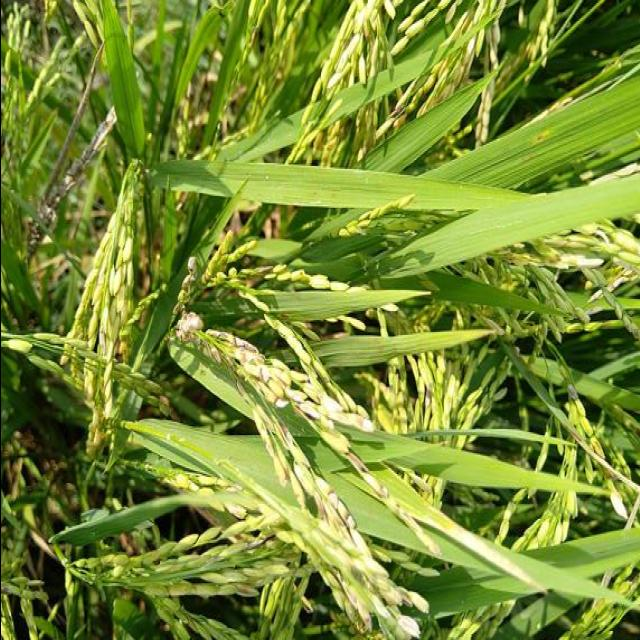Panicle Blight: (417, 78, 431, 111), (398, 616, 417, 637), (224, 335, 253, 348), (333, 118, 349, 141), (172, 316, 199, 329), (390, 94, 405, 115), (185, 254, 197, 280), (395, 586, 408, 604), (97, 327, 105, 356), (574, 257, 601, 265), (322, 399, 340, 410), (359, 610, 370, 628), (311, 130, 322, 148), (345, 511, 354, 529), (592, 440, 601, 458), (238, 586, 255, 595), (305, 410, 319, 420), (260, 366, 269, 381), (360, 420, 371, 431), (114, 344, 123, 357), (634, 429, 640, 443), (380, 487, 387, 496)
